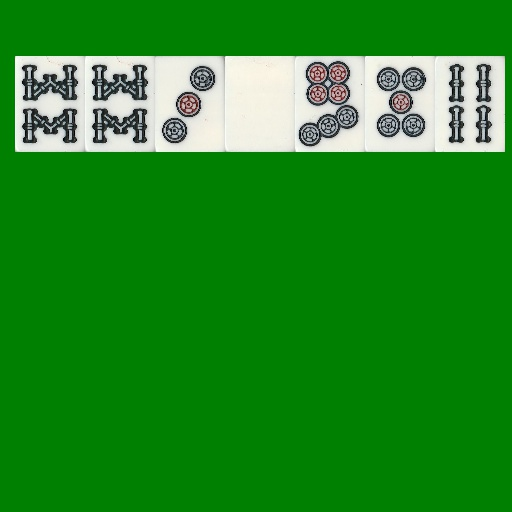3p: (155, 56, 225, 152)
4s: (435, 56, 505, 152)
5p: (365, 56, 435, 152)
7p: (295, 56, 365, 152)
8s: (15, 56, 85, 152), (85, 56, 155, 152)
white: (225, 56, 295, 152)
